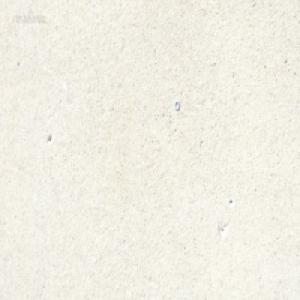Washer: (173, 100, 180, 111)
